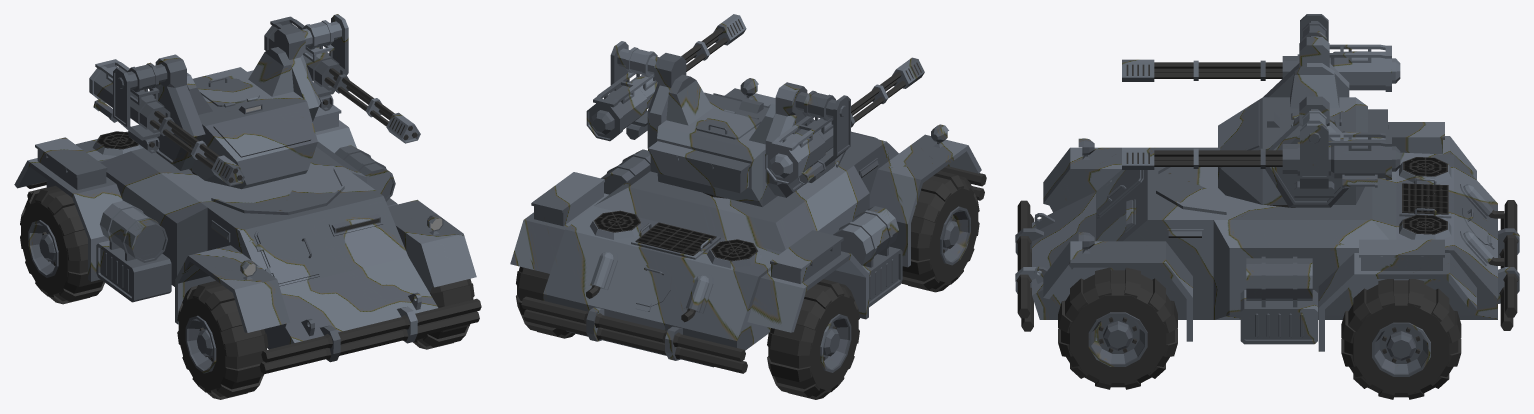
The model's file is gatling.glb.
3 views of the same model, side by side, from view 1: azimuth 30°, elevation 25°; view 2: azimuth 150°, elevation 25°; view 3: azimuth 270°, elevation 25° (orthographic). The views are drawn at different scales.
Parts seen in each view (by area): view 1: Object_5, Object_3, Object_2; view 2: Object_5, Object_3, Object_2; view 3: Object_5, Object_3, Object_2.
Boxes of the visible parts, bbox=[...] form: Object_5: bbox=[14, 14, 476, 373]; Object_3: bbox=[20, 68, 481, 399]; Object_2: bbox=[96, 131, 138, 149]; Object_5: bbox=[510, 14, 981, 372]; Object_3: bbox=[516, 19, 986, 399]; Object_2: bbox=[593, 210, 757, 261]; Object_5: bbox=[1015, 14, 1519, 376]; Object_3: bbox=[1016, 62, 1518, 399]; Object_2: bbox=[1402, 157, 1448, 234].
Size of the model in its own units: 3.09 by 2.57 by 4.48.
4 materials, 2 textured.
